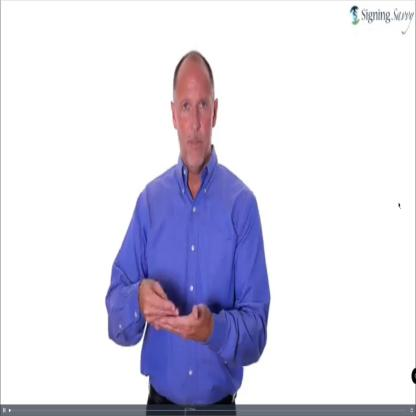Expensive: (137, 254, 210, 360)
